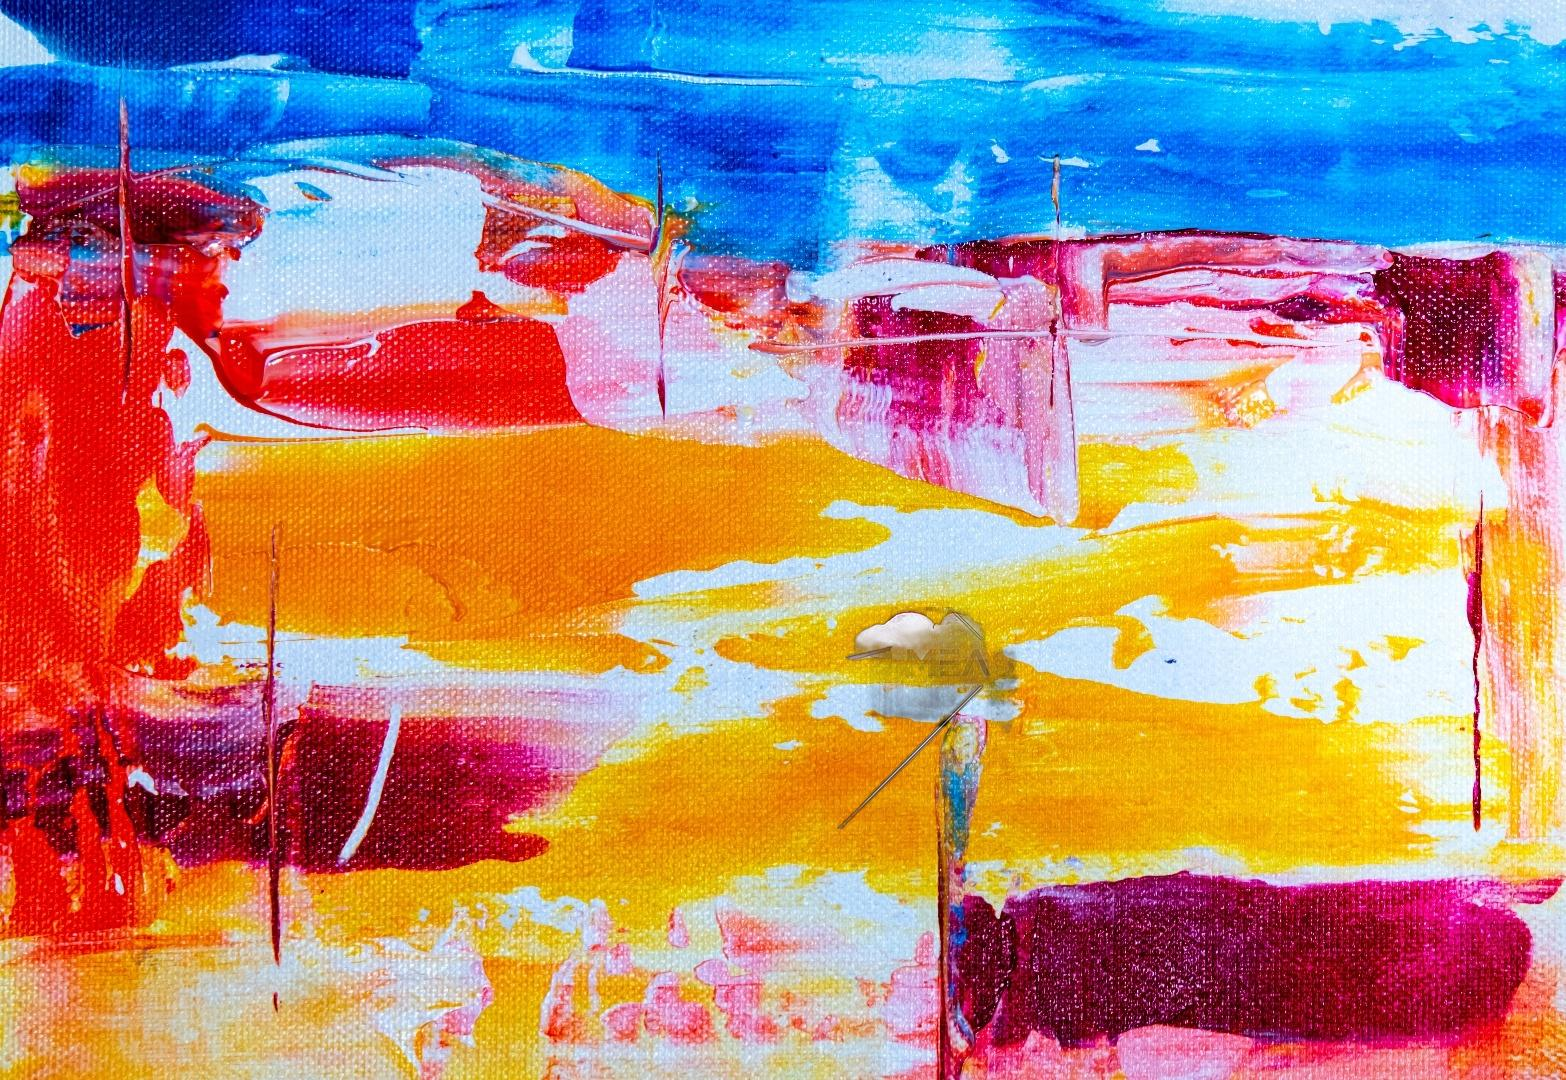trashbox-cardboard: (837, 607, 1021, 829)
